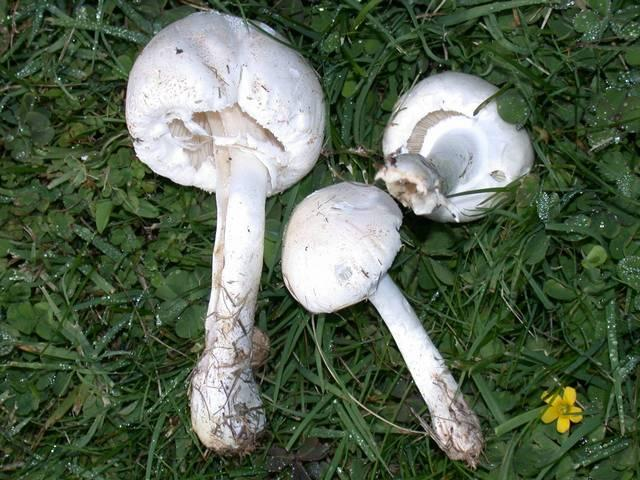poisonous_mushroom: (123, 9, 327, 456), (279, 180, 485, 469), (374, 69, 535, 224)
